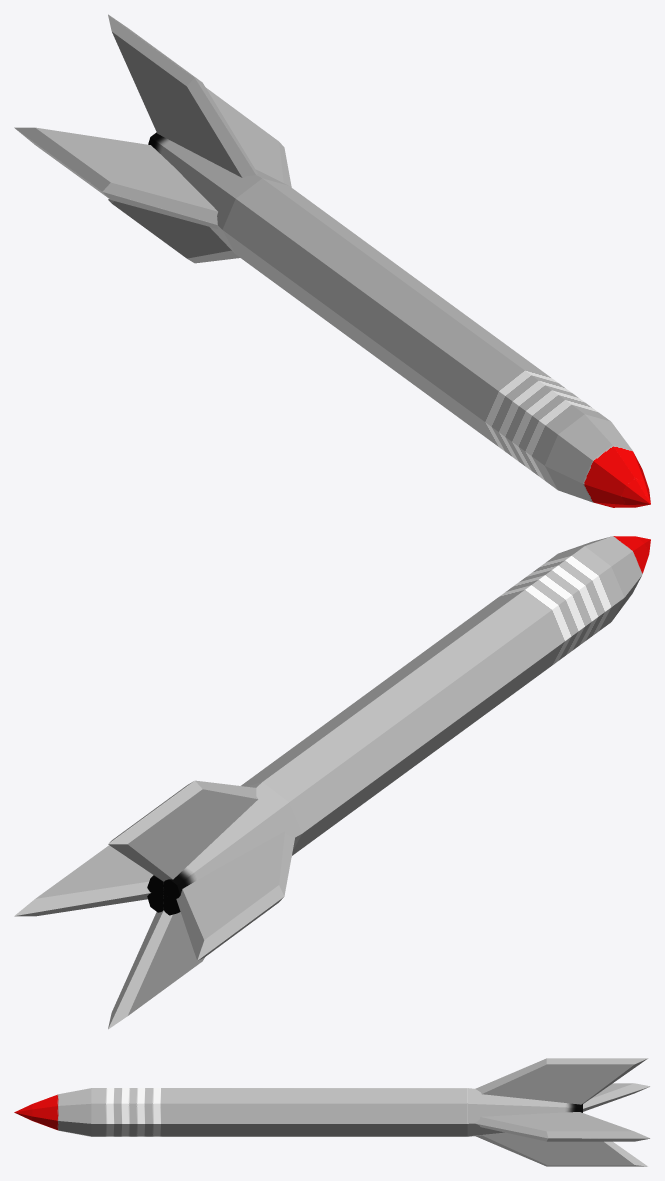
The model's file is fishrod.fbx.
The picture shows the model from 3 angles, top to bottom: view 1: azimuth 30°, elevation 25°; view 2: azimuth 150°, elevation 25°; view 3: azimuth 270°, elevation 25°; orthographic projection. The views are drawn at different scales.
Parts seen in each view (by area): view 1: Missile; view 2: Missile; view 3: Missile.
Boxes of the visible parts, <box> form: Missile: <box>14,14,650,507</box>; Missile: <box>14,536,650,1029</box>; Missile: <box>14,1058,650,1166</box>.
Size of the model in its own units: 68.81 by 66.59 by 355.
Materials: 1 (1 with a texture image).
